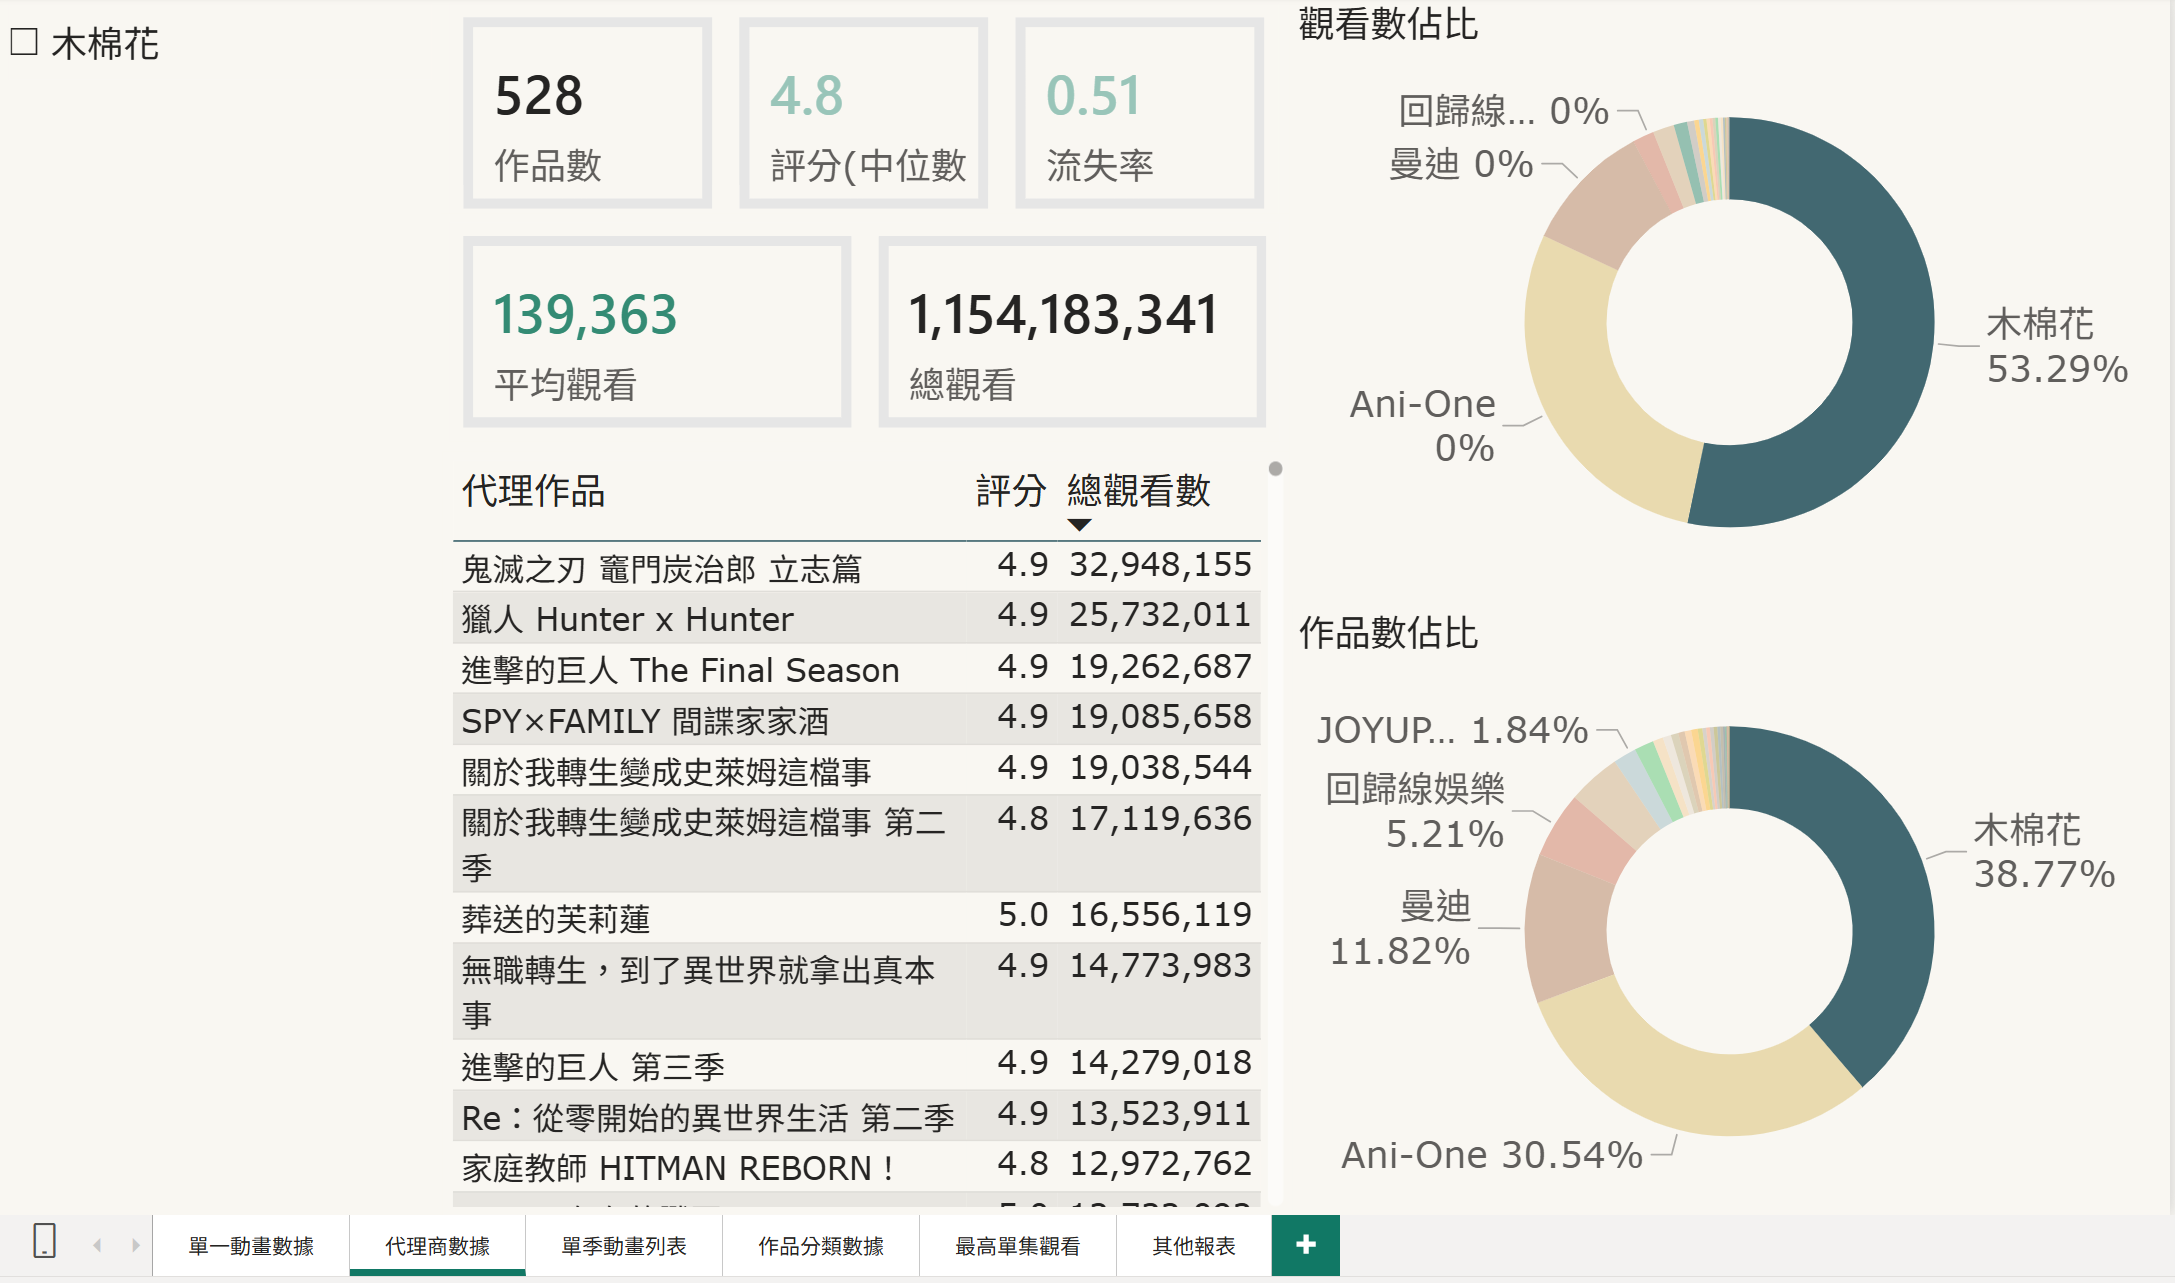

What the dashboard file says about the page in this screenshot:
{"tool":"powerbi","page":{"name":"代理商數據","canvas":[1280,720],"ordinal":1},"visuals":[{"type":"listSlicer","fields":{"Values":["public anime_metadata.agent"]},"box":[0,0,260.1,719.4],"z":0},{"type":"donutChart","title":"佔比","fields":{"Y":["Count(public v_clean_tv_animelist.title)"],"Category":["public anime_metadata.agent"]},"box":[761,359.7,518.8,359.7],"z":1000},{"type":"WordCloud1447959067750","fields":{"Values":["Sum(public v_clean_tv_animelist.sum_view_count)"],"Category":["public studios.official_name"]},"box":[762.5,0,517.3,359.7],"z":2000},{"type":"cardVisual","fields":{"Data":["Count(public v_clean_tv_episodes.title)","Median(public v_clean_tv_animelist.rating)","Median(public v_clean_tv_animelist.churn_rate)"]},"box":[260.1,0,500.9,139.7],"z":3000},{"type":"cardVisual","fields":{"Data":["Avg(public v_clean_tv_animelist.mean_view_count)","Sum(public v_clean_tv_animelist.sum_view_count)"]},"box":[260.1,129.3,500.9,139.7],"z":4000},{"type":"tableEx","fields":{"Values":["public v_clean_tv_animelist.title","public v_clean_tv_animelist.rating","Sum(public v_clean_tv_animelist.sum_view_count)"]},"box":[261.6,269,500.9,450.4],"z":5000}]}

Visuals, with their boxes on the page's 1280x720 design canvas (x1, y1, x2, y2). These are canvas units, not pixel positions in the 2175x1283 screenshot, which may show the page scaled, cropped or inside an application window:
listSlicer - public anime_metadata.agent: x1=0 y1=0 x2=260 y2=719
"佔比" donutChart: x1=761 y1=360 x2=1280 y2=719
WordCloud1447959067750 - Sum(public v_clean_tv_animelist.sum_view_count) x public studios.official_name: x1=762 y1=0 x2=1280 y2=360
cardVisual - Count(public v_clean_tv_episodes.title) x Median(public v_clean_tv_animelist.rating): x1=260 y1=0 x2=761 y2=140
cardVisual - Avg(public v_clean_tv_animelist.mean_view_count) x Sum(public v_clean_tv_animelist.sum_view_count): x1=260 y1=129 x2=761 y2=269
tableEx - public v_clean_tv_animelist.title x public v_clean_tv_animelist.rating: x1=262 y1=269 x2=762 y2=719
